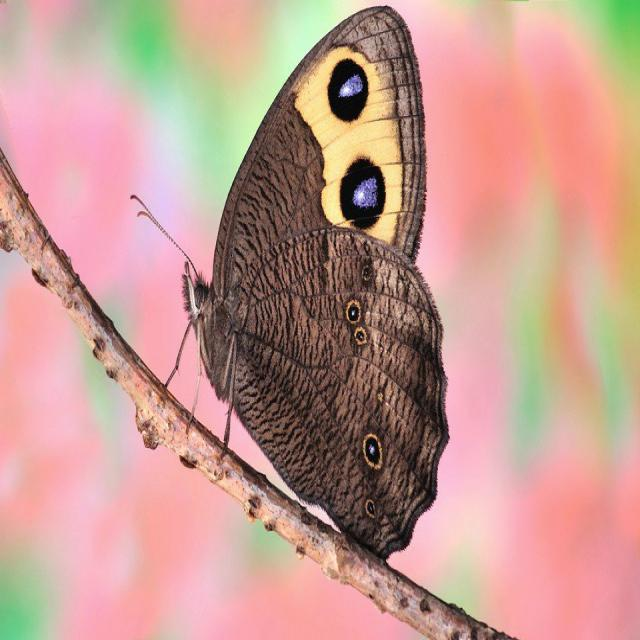butterfly: (130, 6, 449, 558)
